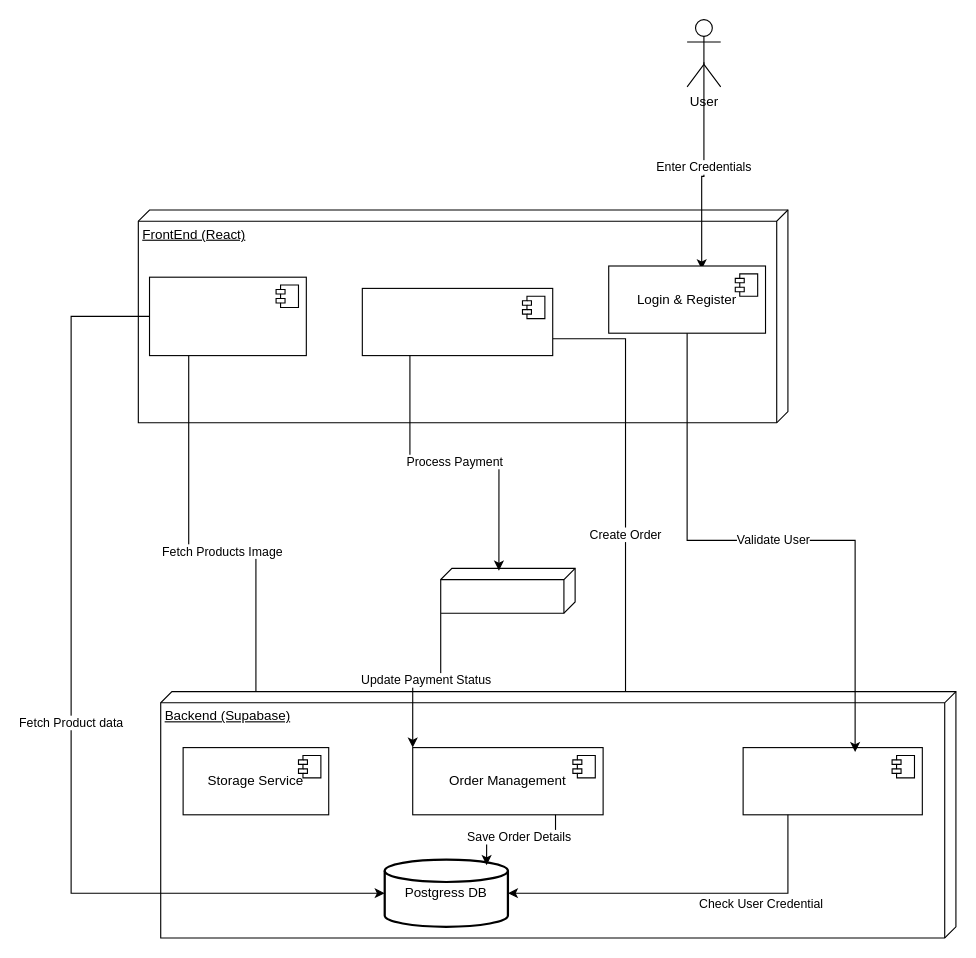
Some shapes in this 976 by 958 pixel diagram are drawn without their labels. Each missing label, with the centre of its shape:
Auth Service: (x=832, y=780)
Cart & Checkout: (x=457, y=321)
Product & Listing: (x=227, y=316)
Stripe (payment): (x=507, y=590)
